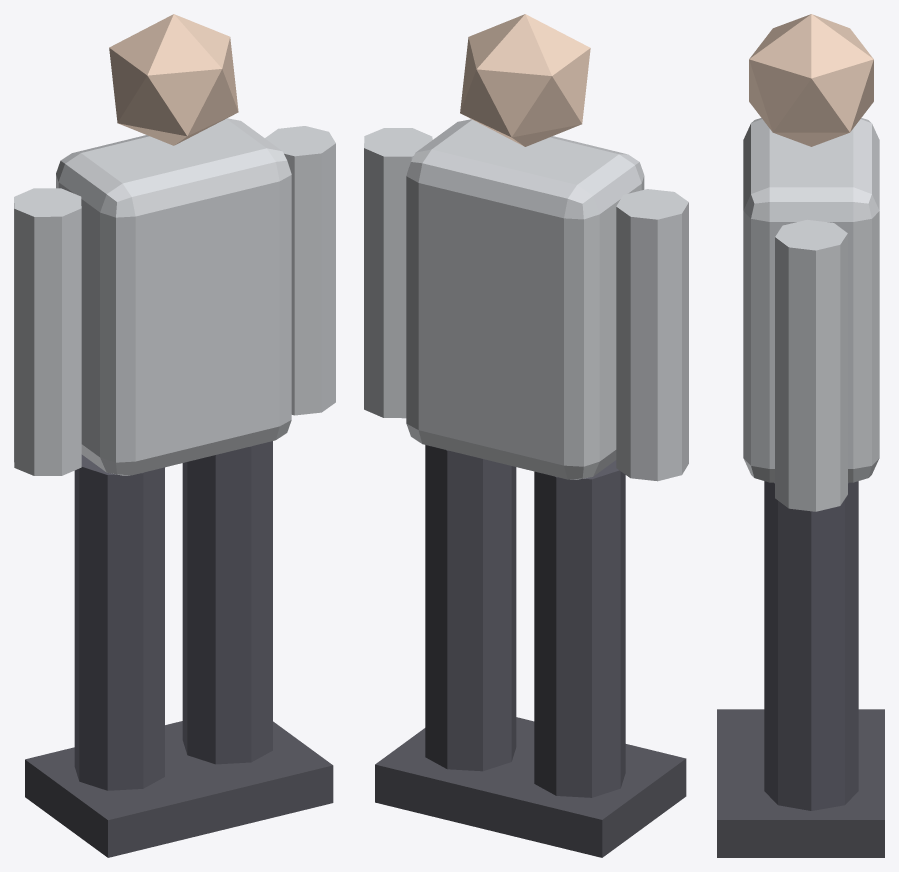
The model's file is bt-fh6-ped-c.glb.
3 renders of one model, left to right at view 1: azimuth 30°, elevation 25°; view 2: azimuth 150°, elevation 25°; view 3: azimuth 270°, elevation 25°, orthographic.
Parts seen in each view (by area): view 1: bt-fh6-ped-c_torso, bt-fh6-ped-c_legL, bt-fh6-ped-c_legR, bt-fh6-ped-c_feet, bt-fh6-ped-c_arm-1, bt-fh6-ped-c_arm1, bt-fh6-ped-c_head; view 2: bt-fh6-ped-c_torso, bt-fh6-ped-c_legL, bt-fh6-ped-c_legR, bt-fh6-ped-c_arm-1, bt-fh6-ped-c_feet, bt-fh6-ped-c_head, bt-fh6-ped-c_arm1; view 3: bt-fh6-ped-c_legR, bt-fh6-ped-c_torso, bt-fh6-ped-c_arm1, bt-fh6-ped-c_feet, bt-fh6-ped-c_head.
Part boxes in pixels (bbox=[...]): bt-fh6-ped-c_torso: bbox=[56, 118, 291, 475]; bt-fh6-ped-c_legL: bbox=[74, 454, 164, 790]; bt-fh6-ped-c_legR: bbox=[182, 441, 272, 764]; bt-fh6-ped-c_feet: bbox=[25, 721, 333, 857]; bt-fh6-ped-c_arm-1: bbox=[14, 188, 81, 475]; bt-fh6-ped-c_arm1: bbox=[265, 126, 335, 415]; bt-fh6-ped-c_head: bbox=[109, 14, 238, 145]; bt-fh6-ped-c_torso: bbox=[406, 119, 644, 479]; bt-fh6-ped-c_legL: bbox=[534, 460, 625, 797]; bt-fh6-ped-c_legR: bbox=[425, 445, 516, 771]; bt-fh6-ped-c_arm-1: bbox=[616, 189, 688, 481]; bt-fh6-ped-c_feet: bbox=[375, 717, 686, 857]; bt-fh6-ped-c_head: bbox=[460, 14, 590, 146]; bt-fh6-ped-c_arm1: bbox=[364, 128, 432, 418]; bt-fh6-ped-c_legR: bbox=[764, 481, 858, 810]; bt-fh6-ped-c_torso: bbox=[743, 118, 879, 482]; bt-fh6-ped-c_arm1: bbox=[775, 219, 847, 511]; bt-fh6-ped-c_feet: bbox=[717, 709, 884, 857]; bt-fh6-ped-c_head: bbox=[749, 14, 873, 146].
Size of the model in its own units: 0.699 by 1.66 by 0.32.
